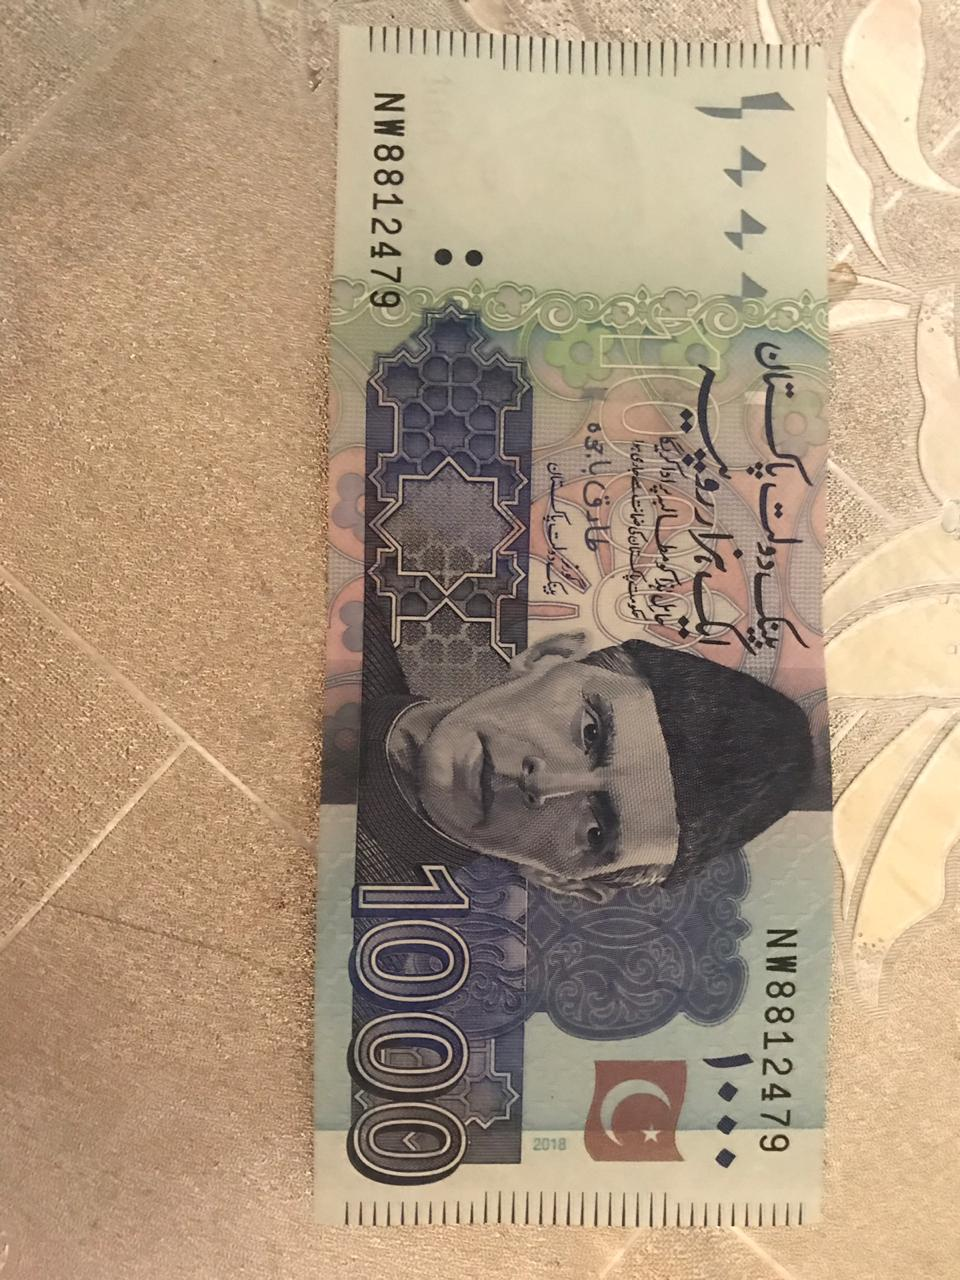1000 rupee: (301, 11, 932, 1280)
